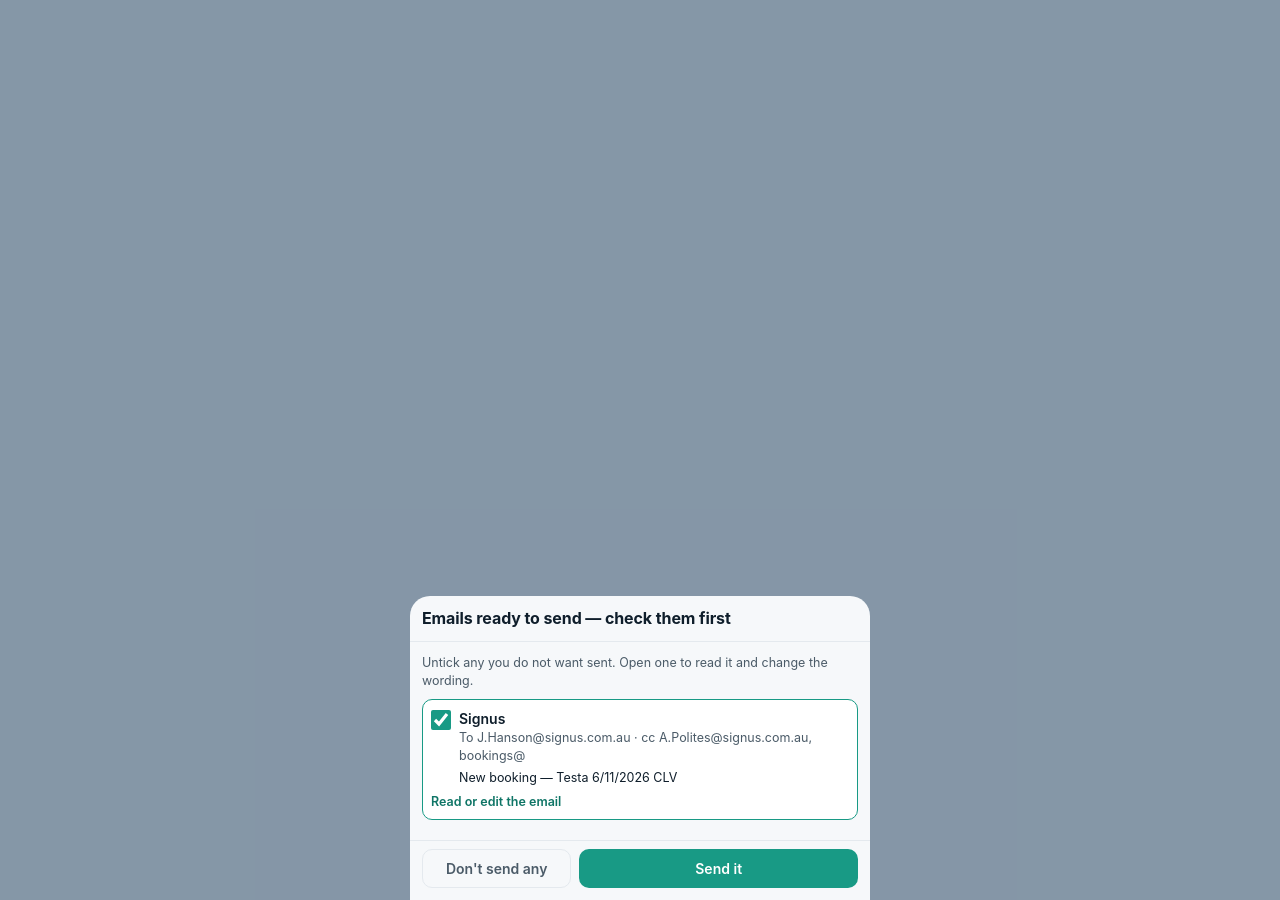
Test: the notice sheet › says who will be told and what, and sends only on Send
Check: the text "Emails ready to send — check them first" is shown, box x1=422 y1=608 x2=731 y2=628
Check: the text "To J.Hanson@signus.com.au · cc A.Polites@signus.com.au" is shown, box x1=459 y1=728 x2=849 y2=765
Click the button "Send it": (719, 868) x1=579 y1=849 x2=858 y2=888
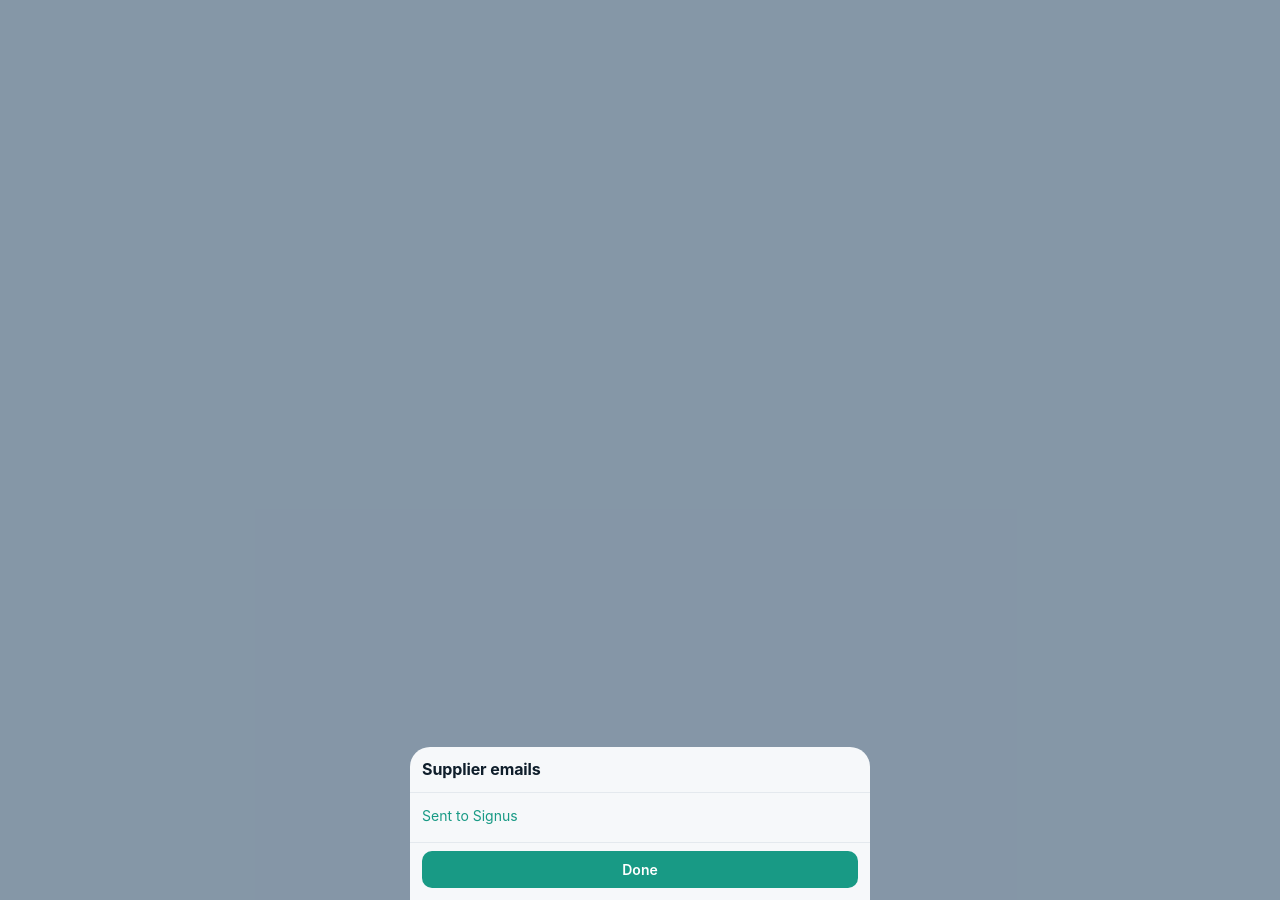
Check: the text "Sent to Signus" is shown, box x1=422 y1=807 x2=518 y2=824
